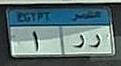1: (30, 32, 39, 52)
raa: (72, 32, 86, 50), (89, 32, 102, 48)
